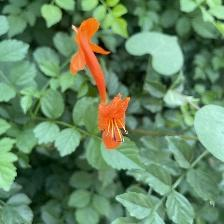honeysuckle: (95, 89, 130, 156)
